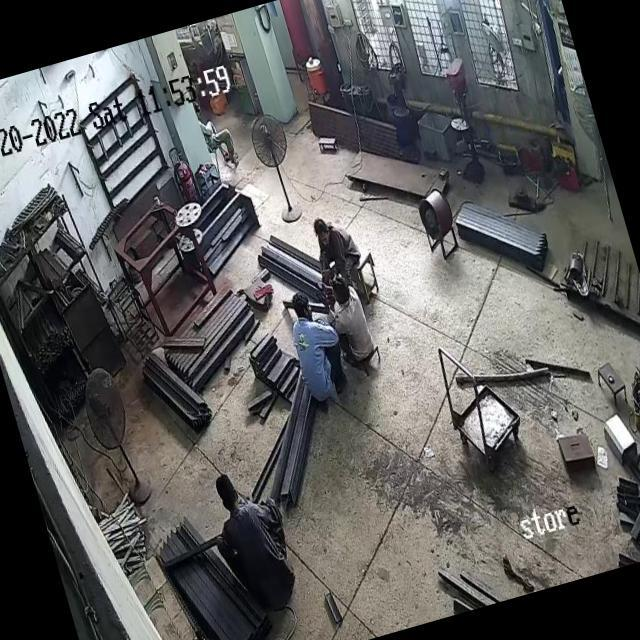person: (200, 454, 308, 615), (277, 284, 354, 404), (316, 268, 382, 370), (305, 204, 371, 294), (188, 100, 244, 174)
